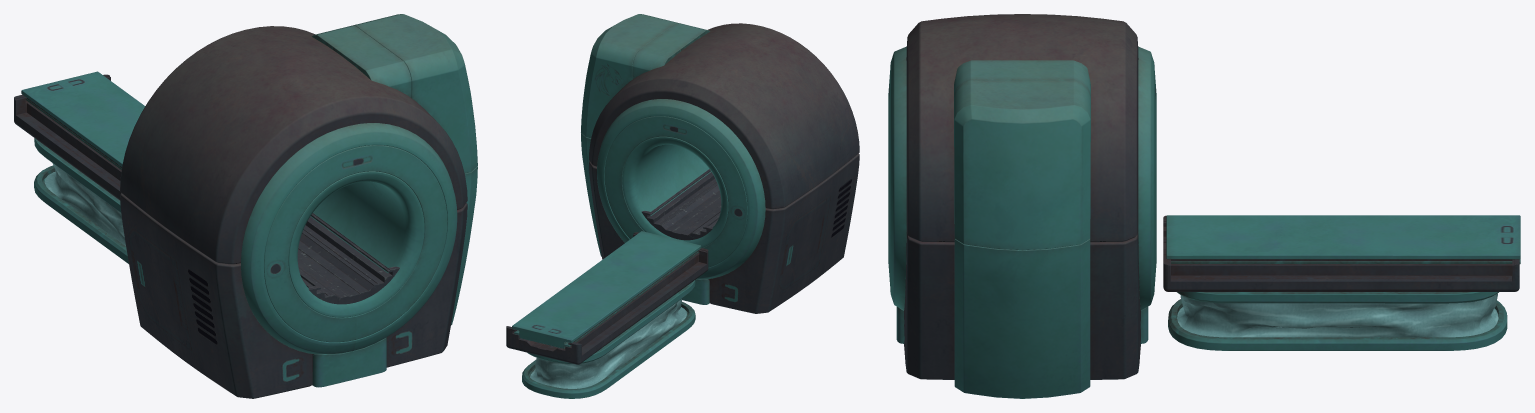
Rendered from sci-fi_mri.glb.
The picture shows the model from 3 angles, left to right: view 1: azimuth 30°, elevation 25°; view 2: azimuth 150°, elevation 25°; view 3: azimuth 270°, elevation 25°; orthographic projection. The views are drawn at different scales.
Visible parts, largest first — view 1: mid:008_Cylinder:041, mid:007_Cylinder:039, panel:003_Cylinder:037, ring1:003_Cylinder:038, in_:003_Cylinder:036, Cube:052_Cube:061, Cube:049_Cube:058, Cube:048_Cube:056, Cube_025:002_Cube:057, Cube:051_Cube:060, Cylinder:018_Cylinder:040, Cube:053_Cube:062 (+3 smaller); view 2: mid:008_Cylinder:041, mid:007_Cylinder:039, Cube:049_Cube:058, panel:003_Cylinder:037, ring1:003_Cylinder:038, in_:003_Cylinder:036, Cube:052_Cube:061, Cube_025:002_Cube:057, Cube:053_Cube:062, Cube:048_Cube:056, Cube:046_Cube:054, Cube:051_Cube:060 (+3 smaller); view 3: mid:008_Cylinder:041, Cube:052_Cube:061, Cube:050_Cube:059, Cube:049_Cube:058, mid:007_Cylinder:039, Cube_025:002_Cube:057, Cube:053_Cube:062, ring1:003_Cylinder:038, Cube:046_Cube:054, Cube:047_Cube:055, Cube:051_Cube:060, panel:003_Cylinder:037 (+1 smaller).
Part boxes in pixels (left/top/right/bottom): mid:008_Cylinder:041: left=120, top=26, right=467, bottom=264; mid:007_Cylinder:039: left=120, top=193, right=467, bottom=398; panel:003_Cylinder:037: left=264, top=145, right=447, bottom=342; ring1:003_Cylinder:038: left=241, top=123, right=457, bottom=354; in_:003_Cylinder:036: left=288, top=171, right=424, bottom=317; Cube:052_Cube:061: left=353, top=14, right=477, bottom=173; Cube:049_Cube:058: left=21, top=71, right=145, bottom=169; Cube:048_Cube:056: left=297, top=213, right=399, bottom=304; Cube_025:002_Cube:057: left=14, top=74, right=121, bottom=200; Cube:051_Cube:060: left=312, top=25, right=411, bottom=97; Cylinder:018_Cylinder:040: left=312, top=337, right=386, bottom=387; Cube:053_Cube:062: left=44, top=163, right=125, bottom=245; mid:008_Cylinder:041: left=589, top=23, right=859, bottom=209; mid:007_Cylinder:039: left=589, top=153, right=859, bottom=313; Cube:049_Cube:058: left=512, top=231, right=701, bottom=348; panel:003_Cylinder:037: left=604, top=116, right=747, bottom=267; ring1:003_Cylinder:038: left=597, top=99, right=765, bottom=279; in_:003_Cylinder:036: left=622, top=136, right=728, bottom=247; Cube:052_Cube:061: left=581, top=14, right=677, bottom=138; Cube_025:002_Cube:057: left=506, top=232, right=708, bottom=364; Cube:053_Cube:062: left=530, top=299, right=686, bottom=388; Cube:048_Cube:056: left=641, top=169, right=721, bottom=240; Cube:046_Cube:054: left=522, top=302, right=695, bottom=398; Cube:051_Cube:060: left=632, top=23, right=710, bottom=79; mid:008_Cylinder:041: left=906, top=14, right=1138, bottom=242; Cube:052_Cube:061: left=954, top=80, right=1090, bottom=250; Cube:050_Cube:059: left=954, top=238, right=1090, bottom=398; Cube:049_Cube:058: left=1166, top=215, right=1520, bottom=263; mid:007_Cylinder:039: left=904, top=232, right=1140, bottom=379; Cube_025:002_Cube:057: left=1163, top=215, right=1519, bottom=291; Cube:053_Cube:062: left=1177, top=293, right=1498, bottom=337; ring1:003_Cylinder:038: left=890, top=46, right=1154, bottom=309; Cube:046_Cube:054: left=1168, top=299, right=1507, bottom=350; Cube:047_Cube:055: left=1177, top=292, right=1498, bottom=303; Cube:051_Cube:060: left=954, top=60, right=1090, bottom=95; panel:003_Cylinder:037: left=888, top=70, right=1156, bottom=285.
Bounding box in the file's own units: 2.06 × 1.85 × 3.57.
1 material, 1 textured.
